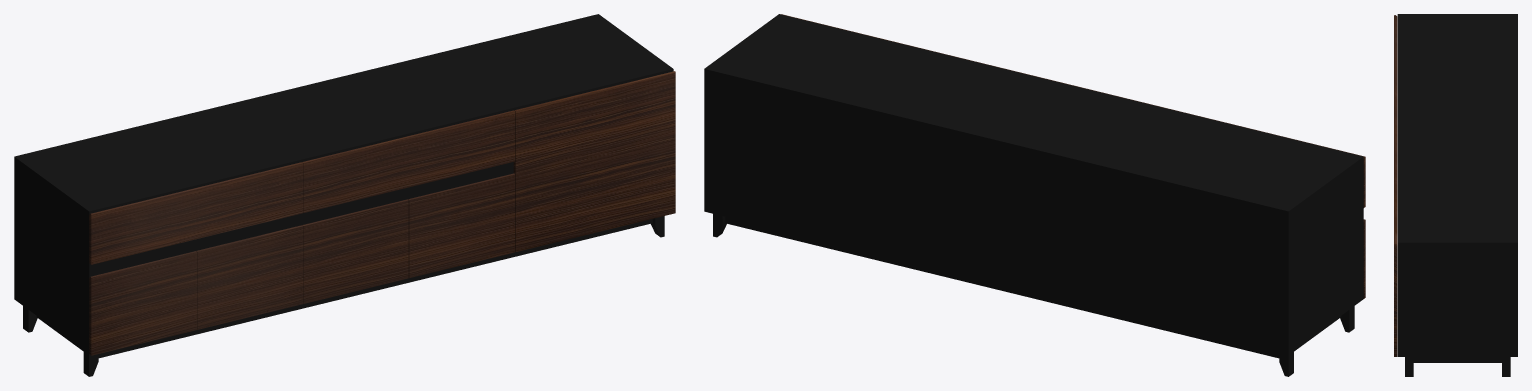
3 views of the same model, side by side, from view 1: azimuth 30°, elevation 25°; view 2: azimuth 150°, elevation 25°; view 3: azimuth 270°, elevation 25° (orthographic). The views are drawn at different scales.
Parts seen in each view (by area): view 1: Box001_TV_Box_0; view 2: Box001_TV_Box_0; view 3: Box001_TV_Box_0.
Part boxes in pixels (<box>): Box001_TV_Box_0: <box>14,14,675,376</box>; Box001_TV_Box_0: <box>704,14,1365,376</box>; Box001_TV_Box_0: <box>1394,14,1517,376</box>.
Bounding box in the file's own units: 70.87 × 19.69 × 16.22.
Materials: 1 (1 with a texture image).
